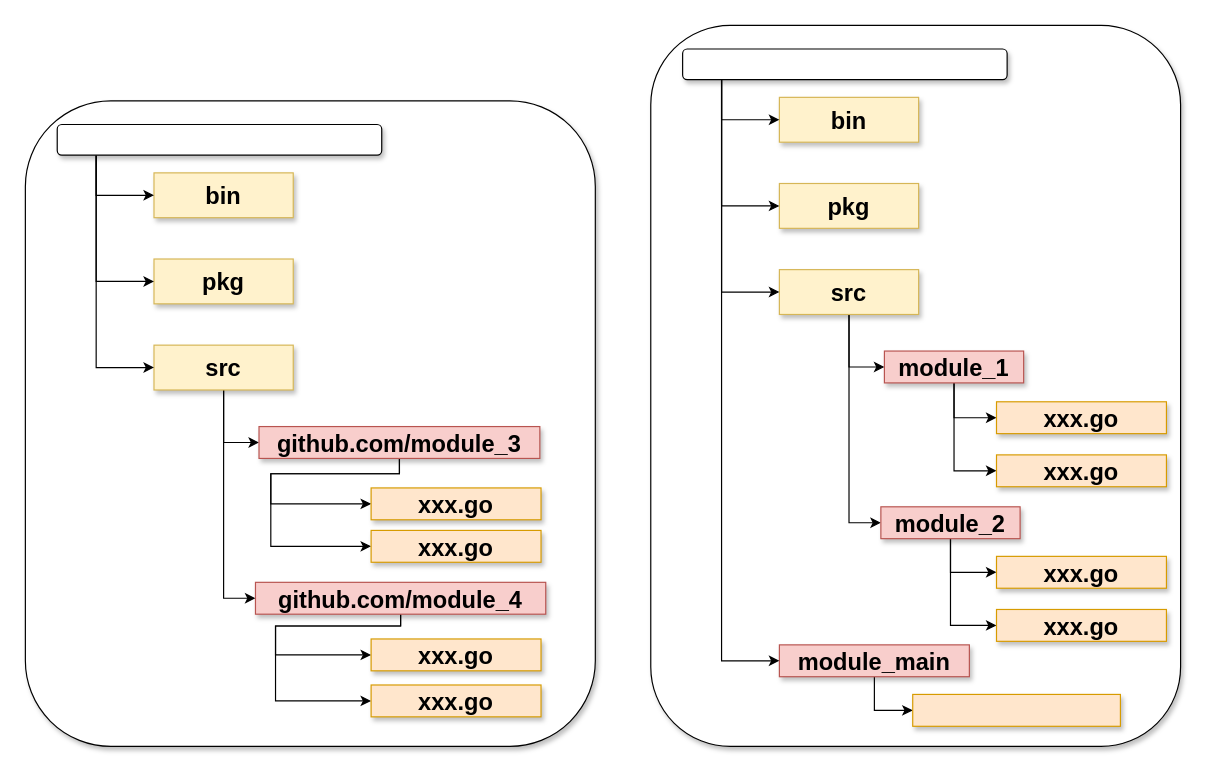
The diagram is 1208 pixels wide and 775 high, and some of its shapes have lost their labels. Here are the shapes that lost their labels. From the top down, the centre of each, then its label:
At point (845, 65): "$ ~/project/module_main".
At point (220, 141): "$ GOPATH (default)".
At point (1017, 712): "module_main.go".
